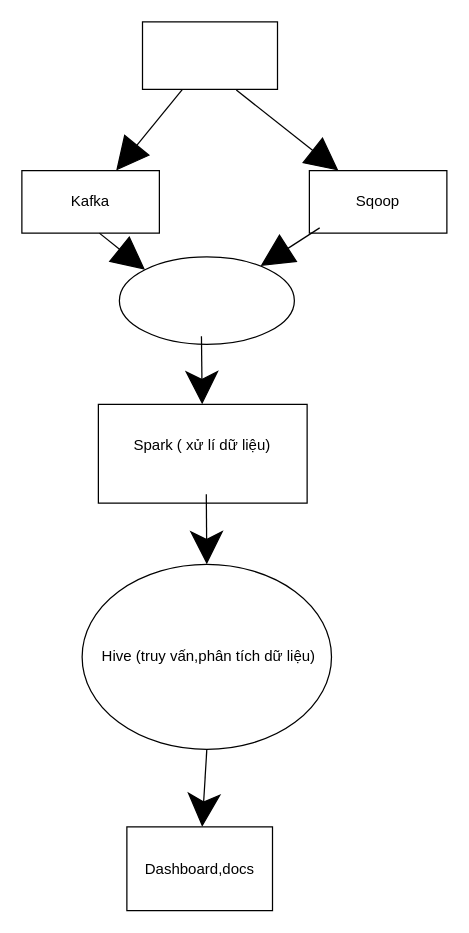
Image size: 469x933. Some labels were removed from this diagram. The shapes that lost their labels are listed below. From the top down, each one's box as (x1, y1, x2, y2) in pixels, then its label:
(141, 21, 278, 89): Data
(118, 256, 294, 344): HDFS
